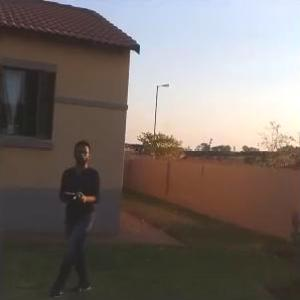follow: (46, 137, 104, 299)
